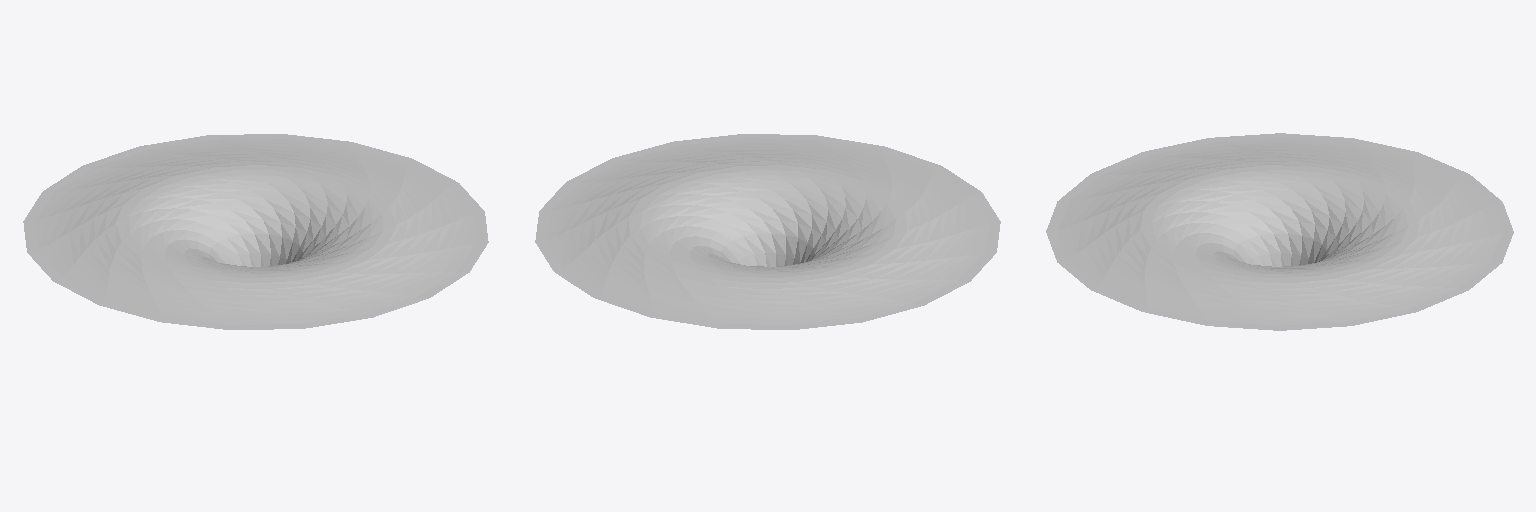
File: Eye of Storm1.obj
3 views of the same model, side by side, from view 1: azimuth 30°, elevation 25°; view 2: azimuth 150°, elevation 25°; view 3: azimuth 270°, elevation 25° (orthographic).
Visible parts, largest first — view 1: Eye_of_Storm:pCylinder1; view 2: Eye_of_Storm:pCylinder1; view 3: Eye_of_Storm:pCylinder1.
Boxes of the visible parts, box(x1,y1,x2,y2) form: Eye_of_Storm:pCylinder1: box(23, 134, 488, 329); Eye_of_Storm:pCylinder1: box(535, 134, 1000, 329); Eye_of_Storm:pCylinder1: box(1046, 133, 1513, 330).
Bounding box in the file's own units: 21.12 × 3.19 × 21.12.